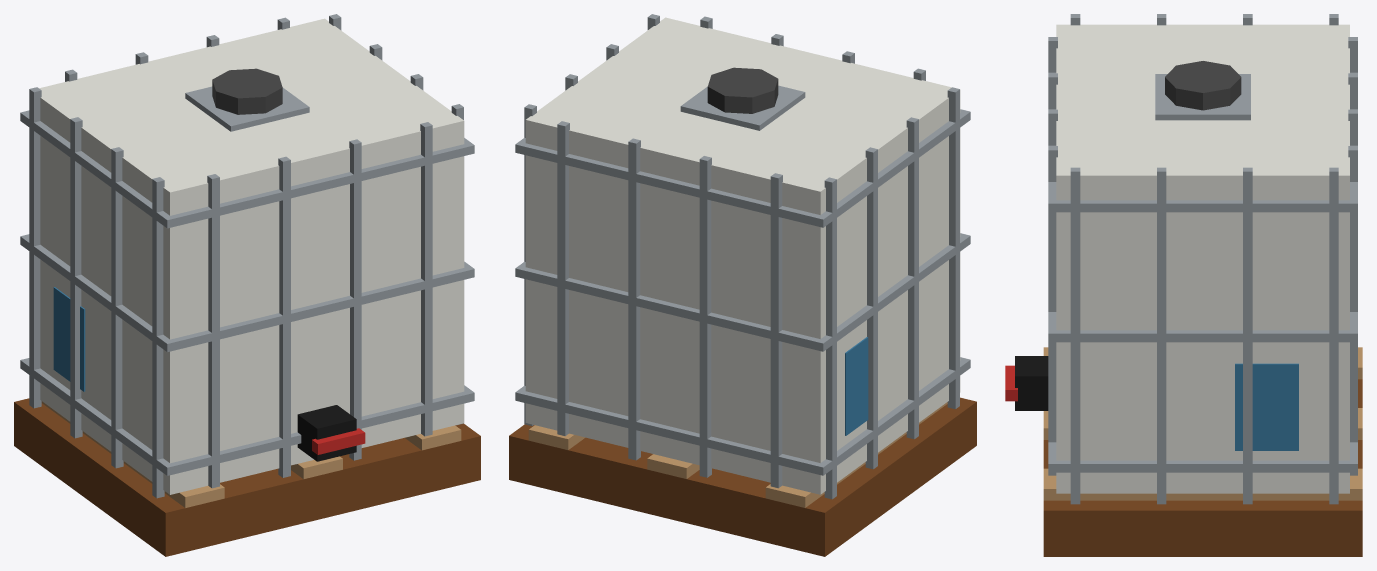
Rendered from Mining_WaterTank.fbx.
3 renders of one model, left to right at view 1: azimuth 30°, elevation 25°; view 2: azimuth 150°, elevation 25°; view 3: azimuth 270°, elevation 25°, orthographic. The views are drawn at different scales.
Parts seen in each view (by area): view 1: Mining_WaterTank; view 2: Mining_WaterTank; view 3: Mining_WaterTank.
Boxes of the visible parts, bbox=[...] form: Mining_WaterTank: bbox=[14, 14, 480, 556]; Mining_WaterTank: bbox=[509, 14, 976, 556]; Mining_WaterTank: bbox=[1005, 14, 1362, 556].
Size of the model in its own units: 1.2 by 1.38 by 1.12.
